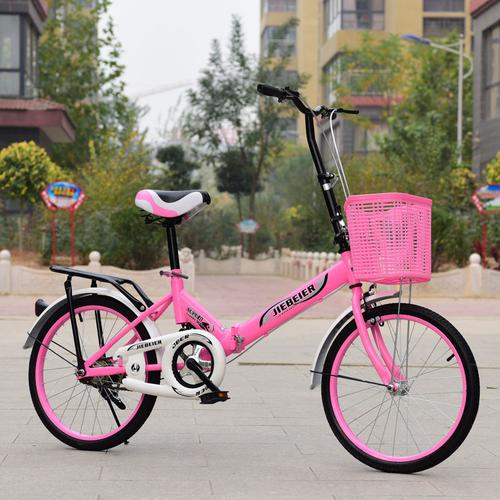单车: (23, 81, 489, 480)
